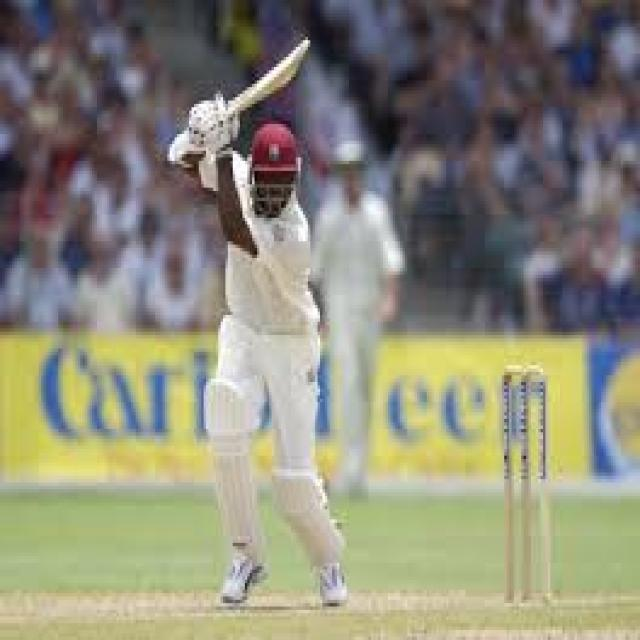toe: (272, 36, 317, 79)
